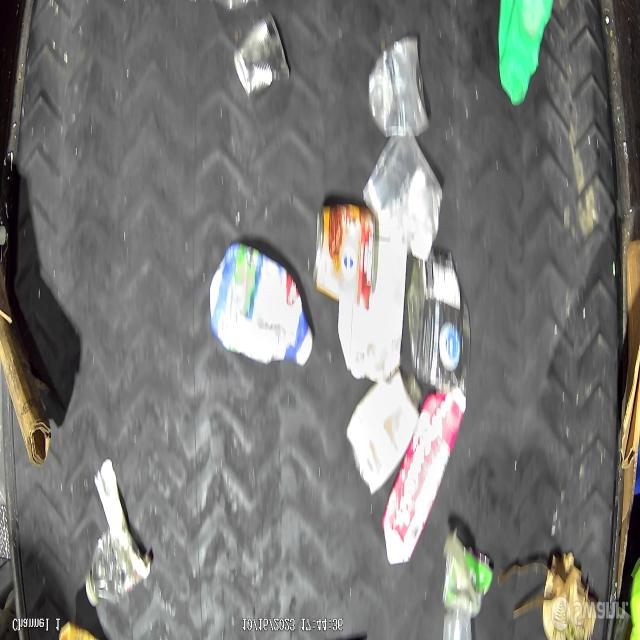can: (366, 35, 433, 146), (315, 204, 380, 308), (235, 17, 287, 109)
non_white_jug: (209, 247, 315, 366), (497, 0, 554, 105)
plastic_bottle: (84, 529, 141, 609)
